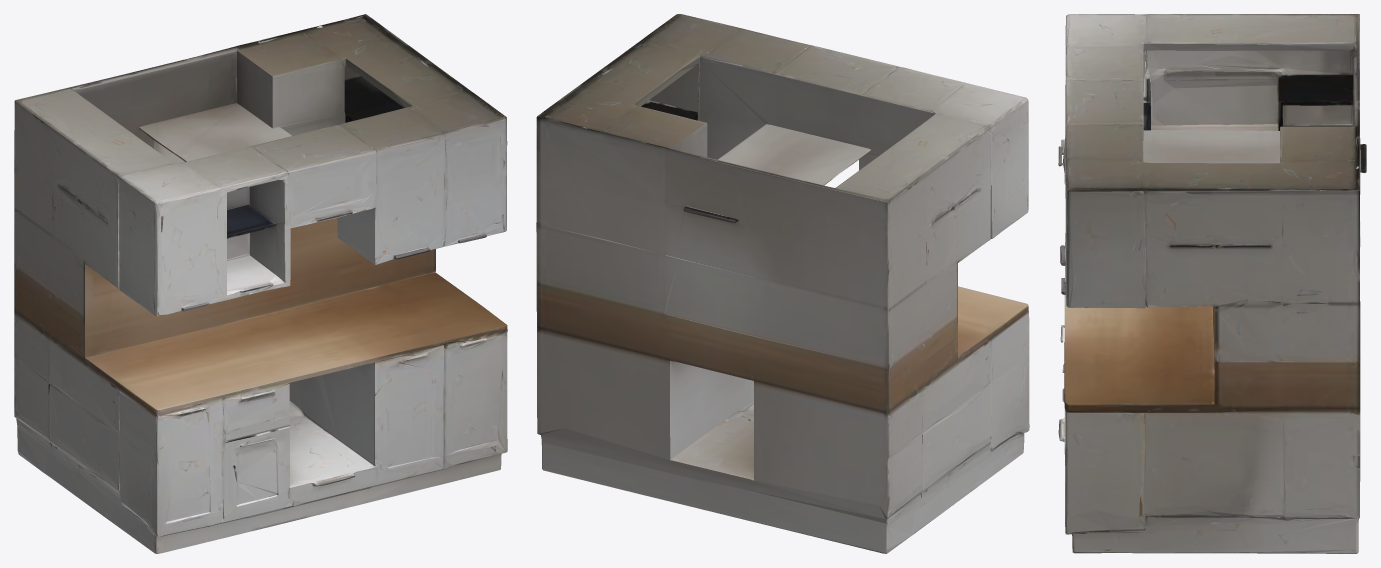
Rendered from FWgIKpgkmZTLzy3Bv0H_t.glb.
3 views of the same model, side by side, from view 1: azimuth 30°, elevation 25°; view 2: azimuth 150°, elevation 25°; view 3: azimuth 270°, elevation 25° (orthographic). The views are drawn at different scales.
Parts seen in each view (by area): view 1: geometry_0; view 2: geometry_0; view 3: geometry_0.
Boxes of the visible parts, box(x1,y1,x2,y2) form: geometry_0: box(14, 14, 507, 553); geometry_0: box(536, 14, 1029, 553); geometry_0: box(1058, 14, 1366, 553).
Size of the model in its own units: 1 by 0.9625 by 0.734.
Materials: 1 (1 with a texture image).
